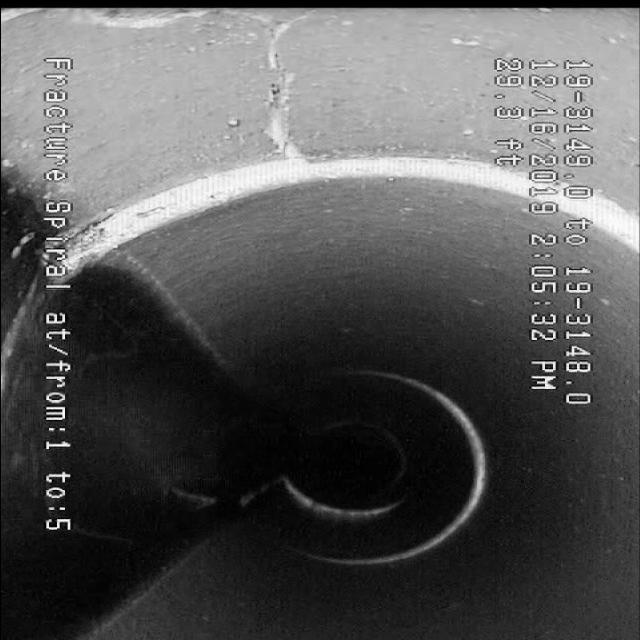Fracture: (220, 16, 336, 166)
